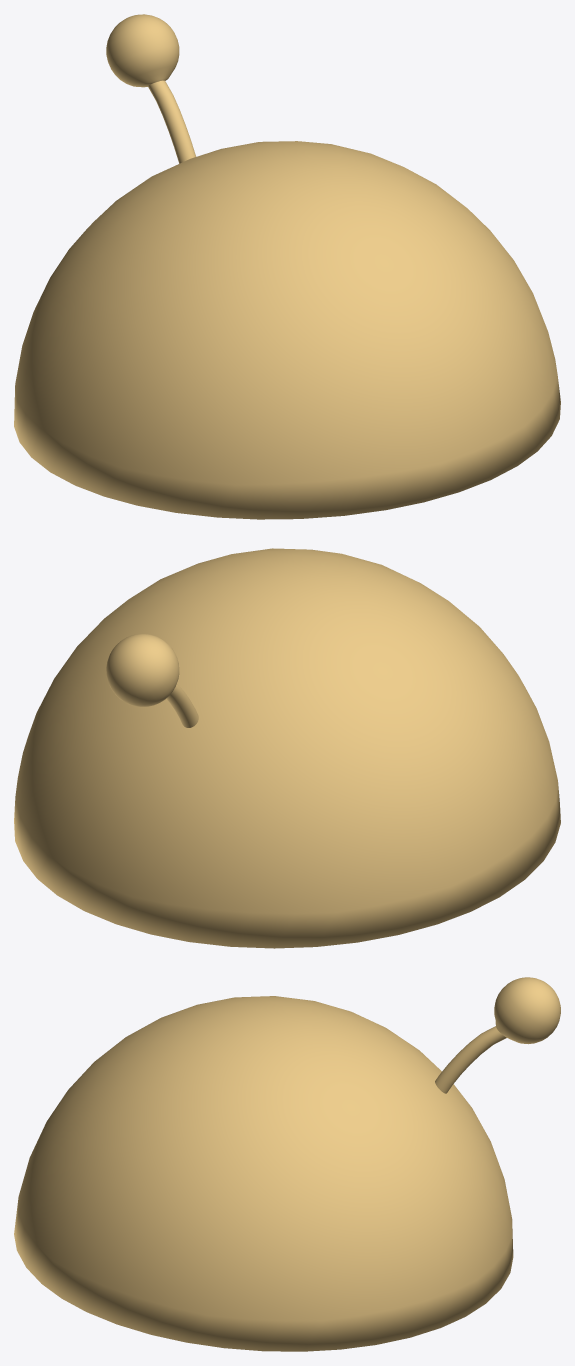
File: Decoration5.fbx
3 views of the same model, one above another, from view 1: azimuth 30°, elevation 25°; view 2: azimuth 150°, elevation 25°; view 3: azimuth 270°, elevation 25° (orthographic). The views are drawn at different scales.
Visible parts, largest first — view 1: Base.003, Antenna.004, Antenna.003; view 2: Base.003, Antenna.004, Antenna.003; view 3: Base.003, Antenna.004, Antenna.003.
Boxes of the visible parts, box(x1,y1,x2,y2) form: Base.003: box(14, 141, 560, 519); Antenna.004: box(106, 14, 179, 87); Antenna.003: box(148, 80, 195, 163); Base.003: box(14, 548, 560, 948); Antenna.004: box(106, 634, 179, 706); Antenna.003: box(166, 684, 198, 727); Base.003: box(14, 996, 513, 1351); Antenna.004: box(494, 977, 560, 1044); Antenna.003: box(435, 1026, 506, 1093).
Bounding box in the file's own units: 54.73 × 33.38 × 59.88.
